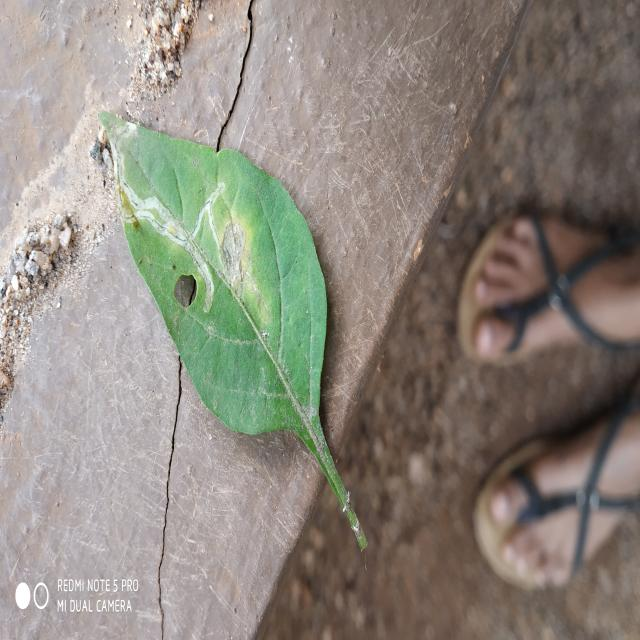ganike: (100, 111, 366, 549)
